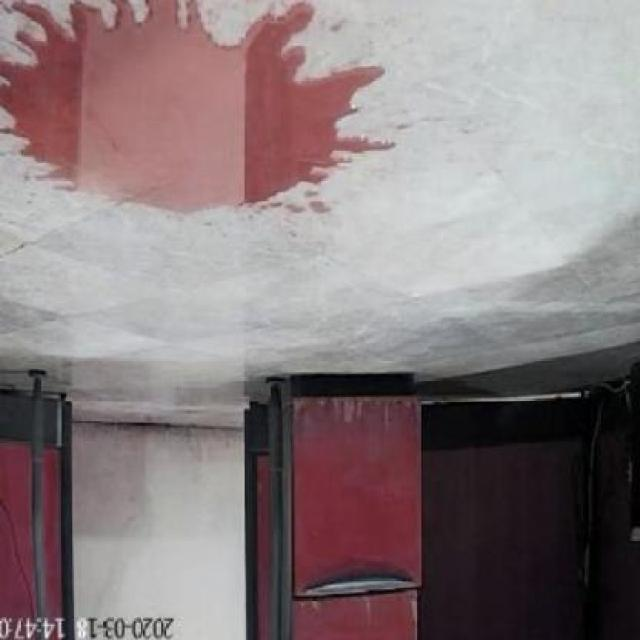spillage: (0, 0, 396, 212)
